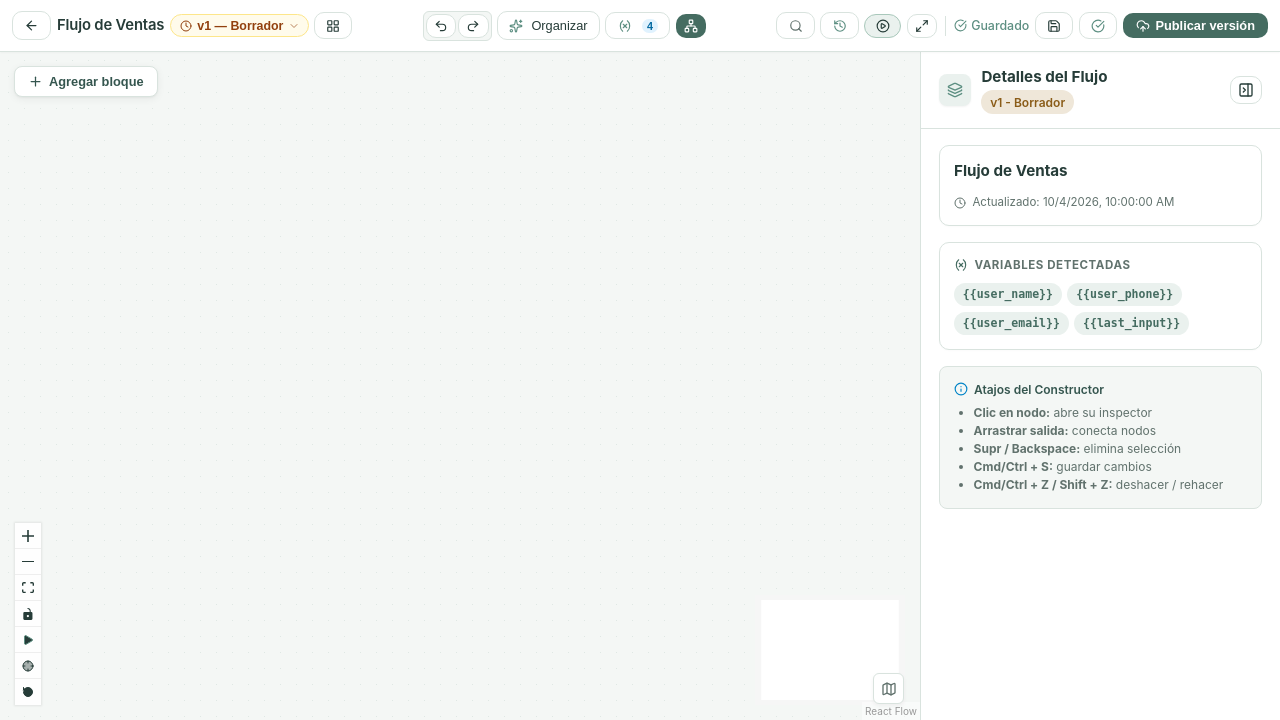
Test case: FlowEditor › shows validation errors drawer and structured error messages
This screenshot has width=1280, height=720.
// Click "Validar flujo"
Click the button named "Validar flujo". click: point(1098, 26)
box: 1079,12 -> 1117,39
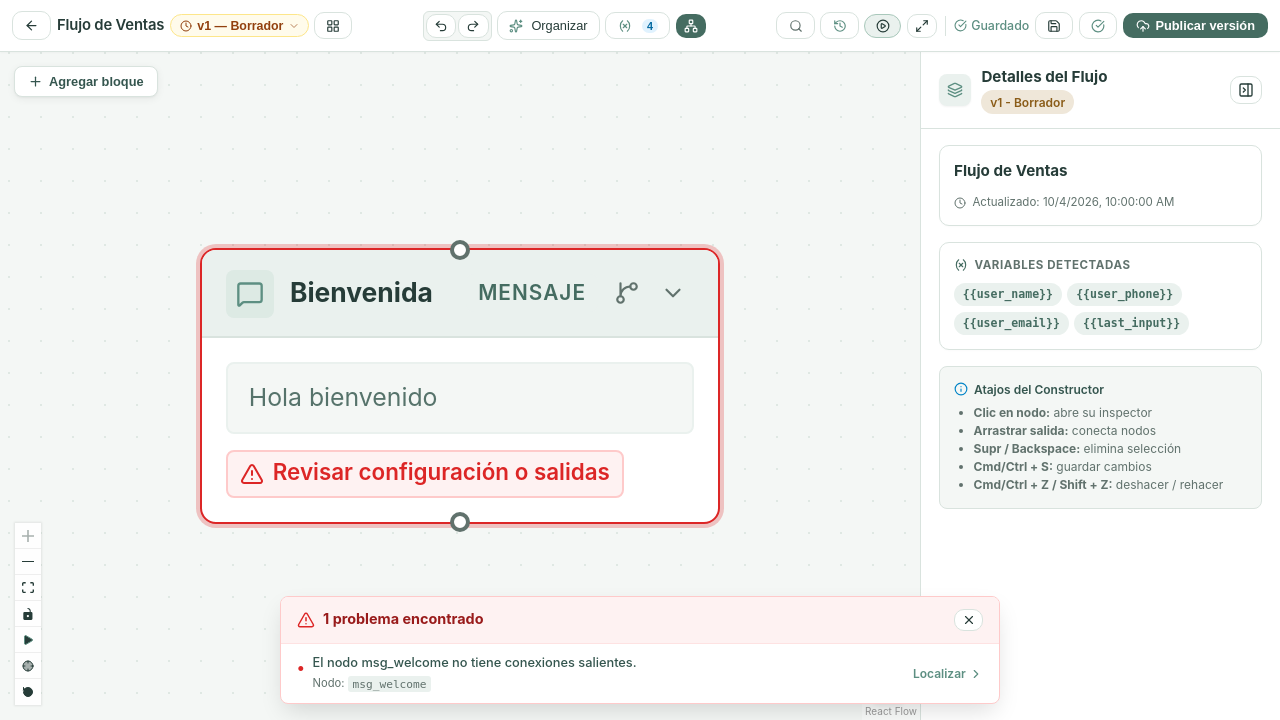
Expected: the text "1 problema encontrado" is shown, 323,609 -> 484,630
Expected: the text "El nodo msg_welcome no tiene conexiones salientes." is shown, 313,654 -> 637,673
Expected: the text "msg_welcome" is shown, 348,676 -> 431,692
